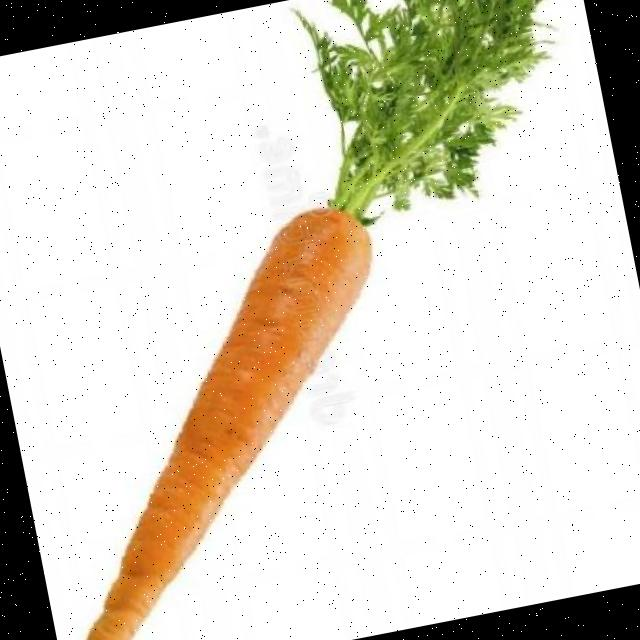carrot: (87, 0, 546, 640)
